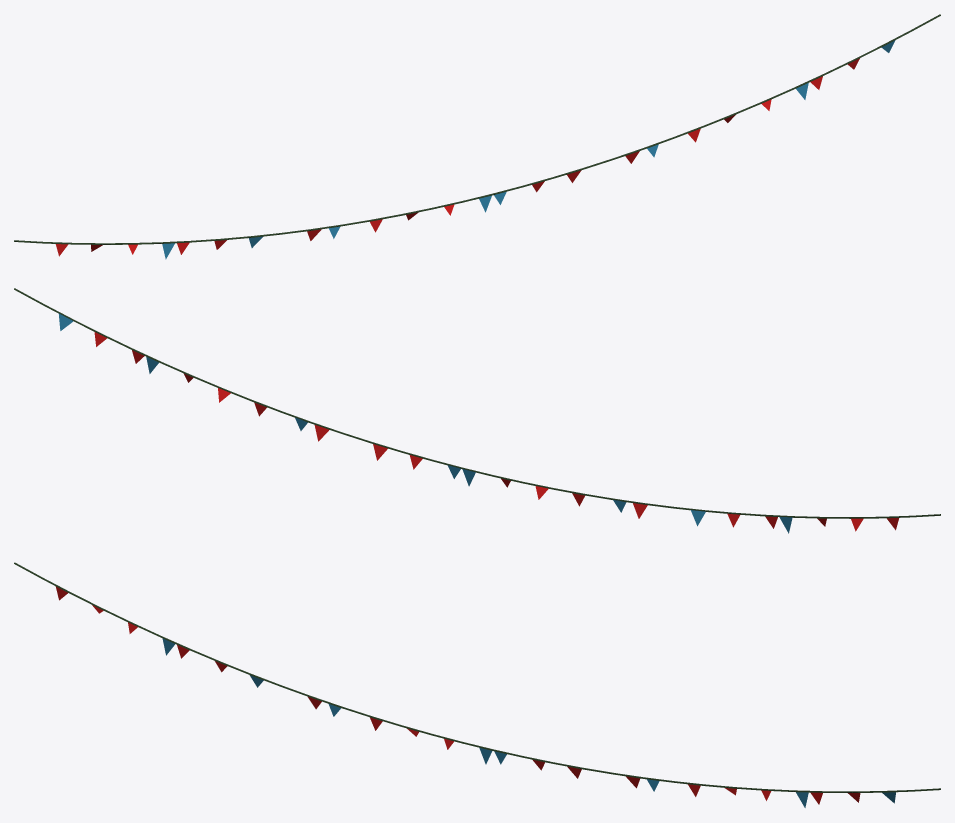
The model's file is SM_rope_stripes_02.fbx.
3 renders of one model, top to bottom at view 1: azimuth 30°, elevation 25°; view 2: azimuth 150°, elevation 25°; view 3: azimuth 330°, elevation 25°, orthographic.
Visible parts, largest first — view 1: Line032; view 2: Line032; view 3: Line032.
Boxes of the visible parts, x1,y1,x2,y2 form: Line032: (14, 14, 940, 259); Line032: (14, 288, 940, 533); Line032: (14, 562, 940, 807).
Size of the model in its own units: 991 by 9.95 by 89.26.
